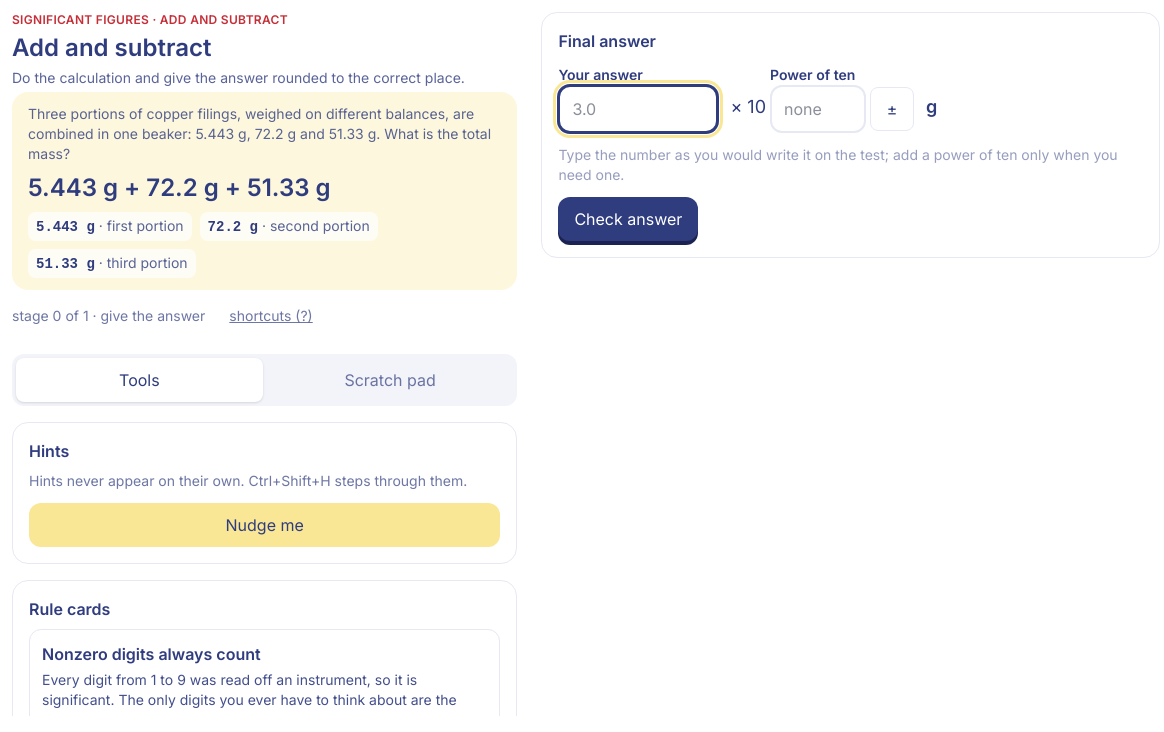
Test: SigFigFlow: typed numeral answers › a right first answer completes with first-try credit and nothing revealed
The image size is (1164, 732).
Type "129.0" into the field labelled "Your answer" at (638, 109), box [558,85,718,133]
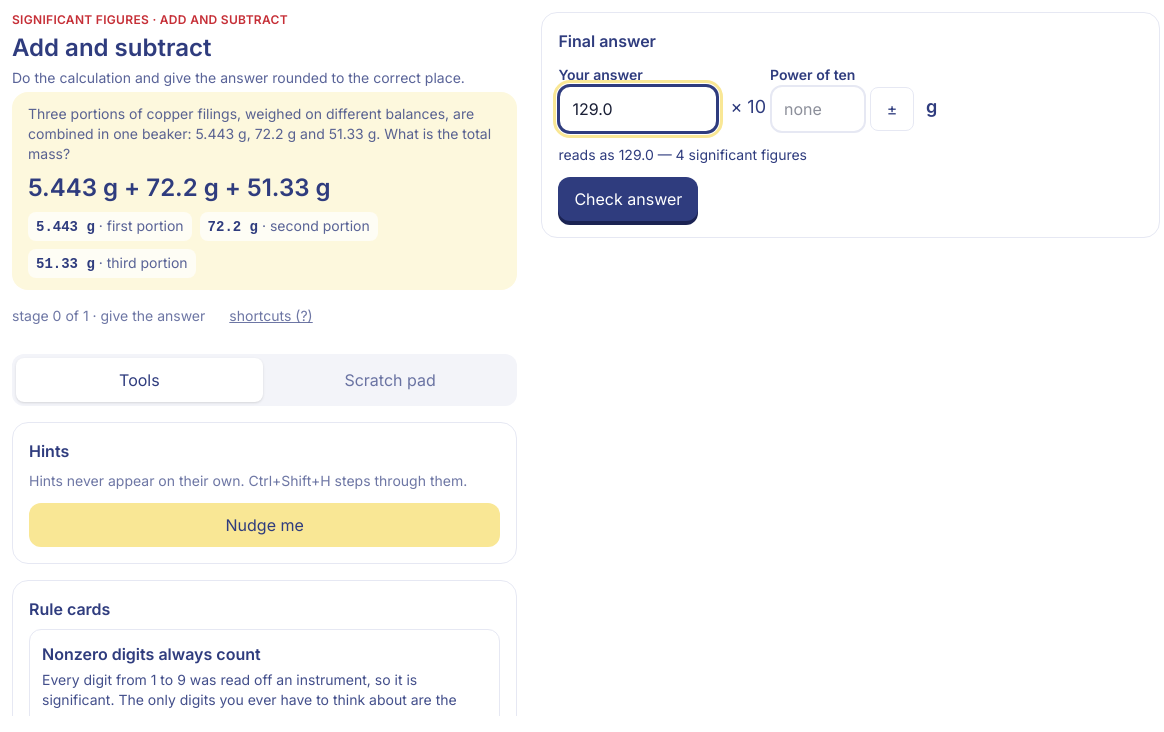
Click the button "Check answer" at (628, 199), box [558,177,698,221]
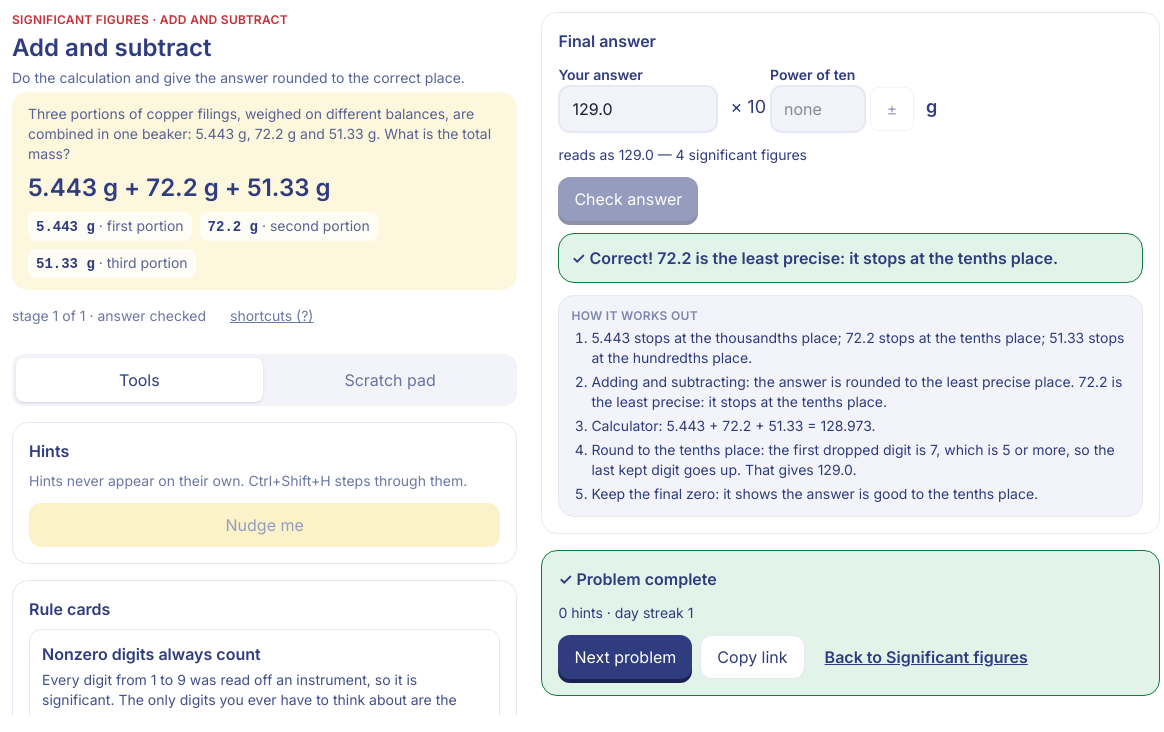
Now the heading "✓ Problem complete" is shown, box [558,569,717,589]
